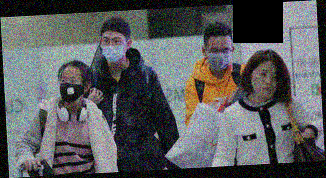with_mask: (100, 33, 127, 65), (58, 73, 84, 103), (206, 44, 233, 72)
without_mask: (249, 65, 280, 101)
